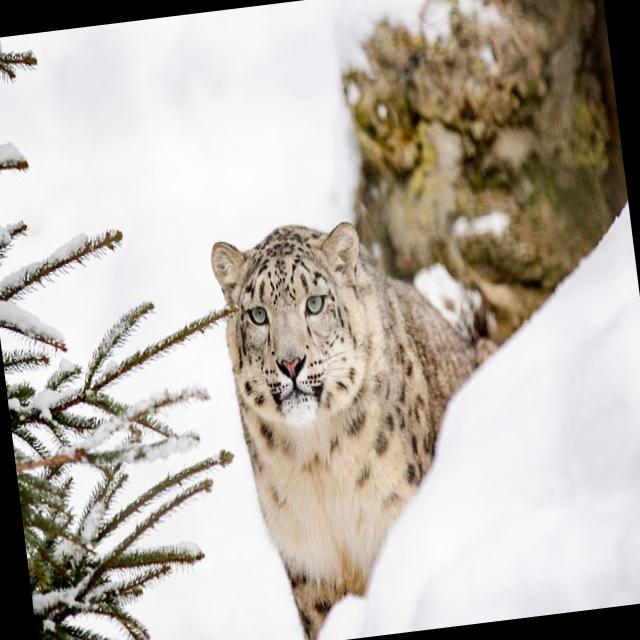animal: (206, 197, 531, 640)
